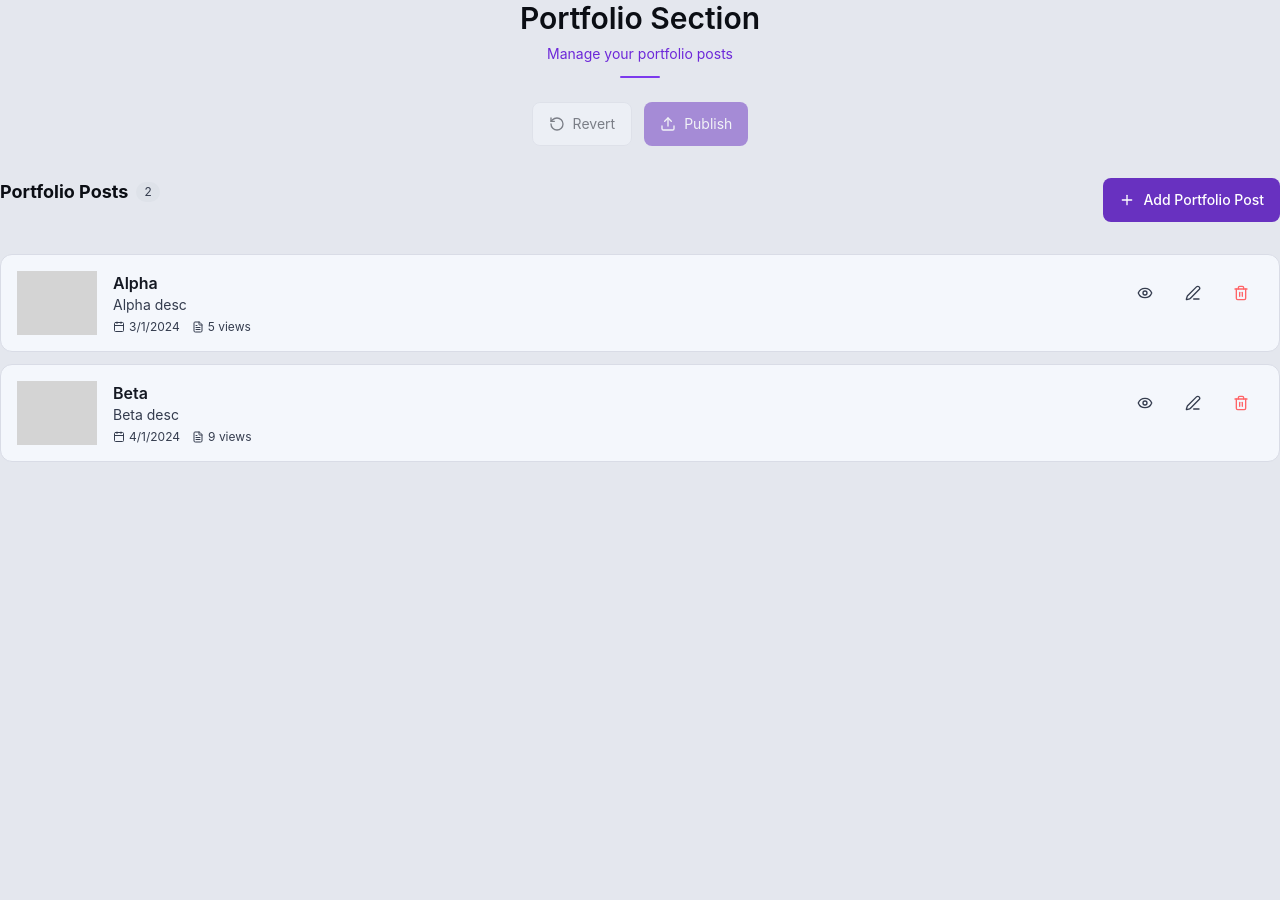
Test: production (public): opens an existing post from Storage, loading its bodies exactly once
Click the button named "Edit" in the row of "Alpha desc".
click(1193, 293)  # box [1171,271,1215,315]
(page scrolled)
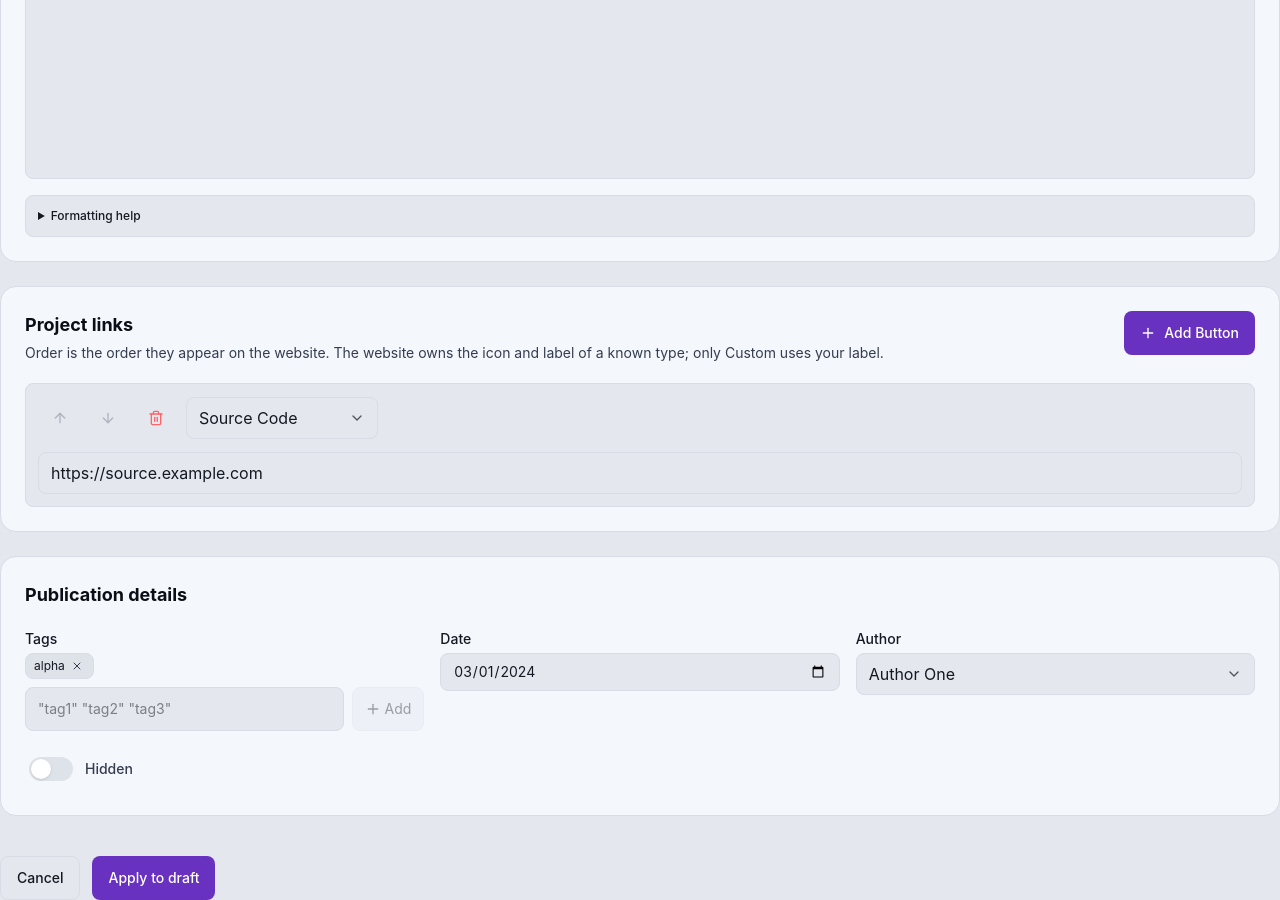
Expected: the field named "Button URL" is shown, [38,452,1242,494]
